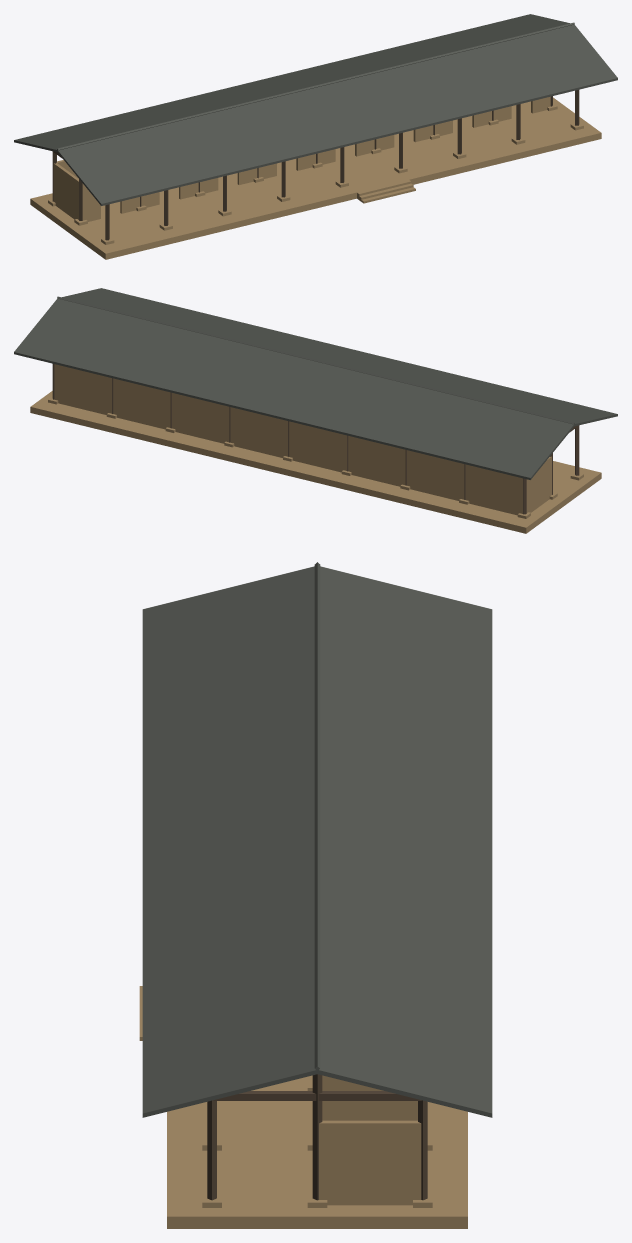
Rendered from sidehall-A-LOD2.glb.
3 views of the same model, one above another, from view 1: azimuth 30°, elevation 25°; view 2: azimuth 150°, elevation 25°; view 3: azimuth 270°, elevation 25° (orthographic). The views are drawn at different scales.
Visible parts, largest first — view 1: sidehall-A-static_tile, sidehall-A-static_earth, sidehall-A-static_timber; view 2: sidehall-A-static_tile, sidehall-A-static_earth, sidehall-A-static_timber; view 3: sidehall-A-static_tile, sidehall-A-static_earth, sidehall-A-static_timber.
Part boxes in pixels (x1,y1,x2,y2): sidehall-A-static_tile: [14, 14, 617, 205]; sidehall-A-static_earth: [30, 96, 601, 259]; sidehall-A-static_timber: [52, 90, 579, 240]; sidehall-A-static_tile: [14, 288, 617, 479]; sidehall-A-static_earth: [30, 364, 601, 533]; sidehall-A-static_timber: [52, 364, 579, 514]; sidehall-A-static_tile: [142, 562, 492, 1117]; sidehall-A-static_earth: [139, 986, 467, 1228]; sidehall-A-static_timber: [207, 1074, 427, 1200].
Bounding box in the file's own units: 39.6 × 6.33 × 11.7.
